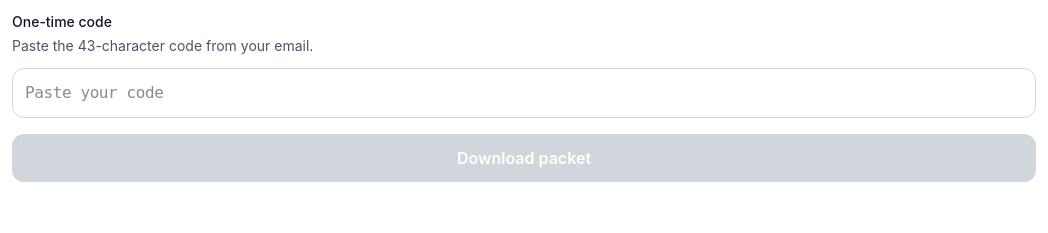
Test: the code is POSTed and never navigated › clears the input once the request resolves
This screenshot has width=1048, height=233.
Type "Zm9vYmFyYmF6cXV1eGNvcmdlZ3JhdWx0Z2FycGx5Z2g" into the field labelled "One-time code" at (524, 93), box x1=12 y1=68 x2=1036 y2=118
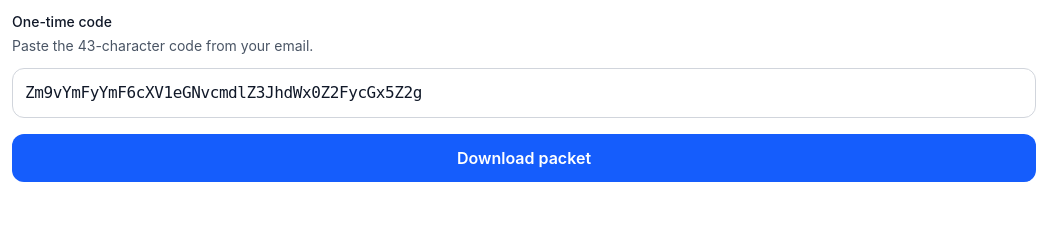
Click the button "Download packet" at (524, 158), box x1=12 y1=134 x2=1036 y2=182
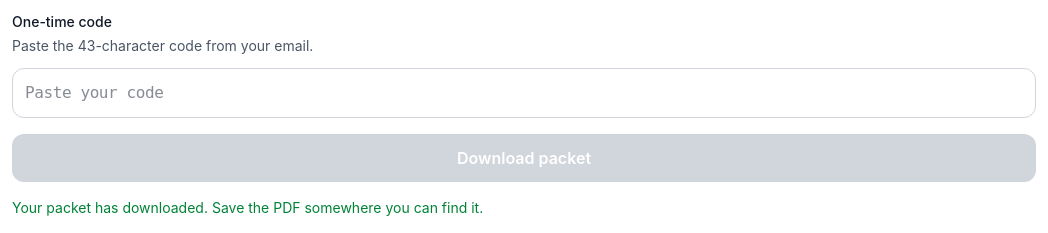
Check: the field labelled "One-time code" is empty, box x1=12 y1=68 x2=1036 y2=118
Check: the text "Your packet has downloaded" is shown, box x1=12 y1=199 x2=483 y2=216
